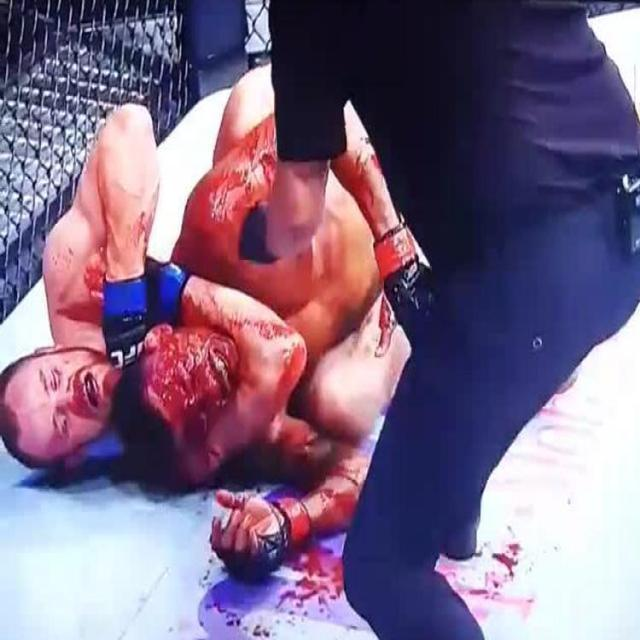flood: (144, 311, 242, 433)
